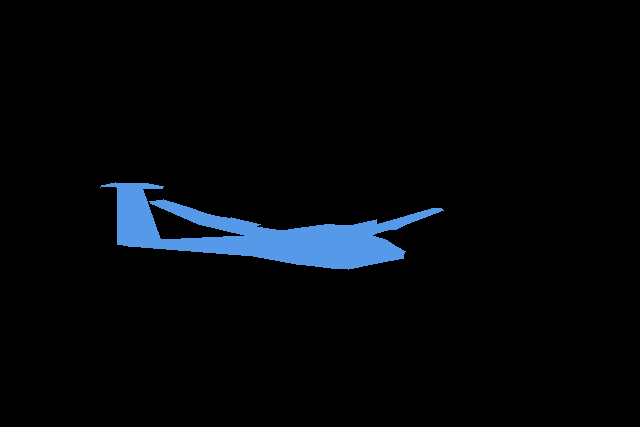Airplane: (100, 182, 444, 269)
